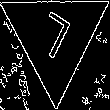L_SW: (33, 7, 78, 67)
